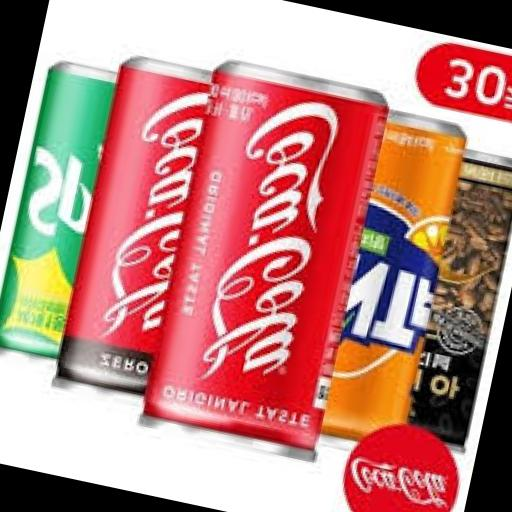Coca: (126, 49, 400, 474)
